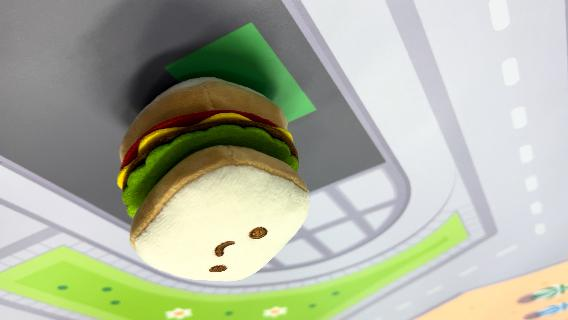sandwich: (115, 74, 313, 282)
